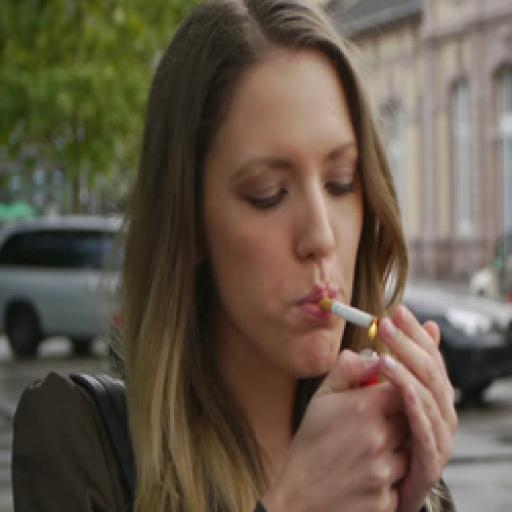membakar rokok: (265, 169, 421, 412)
